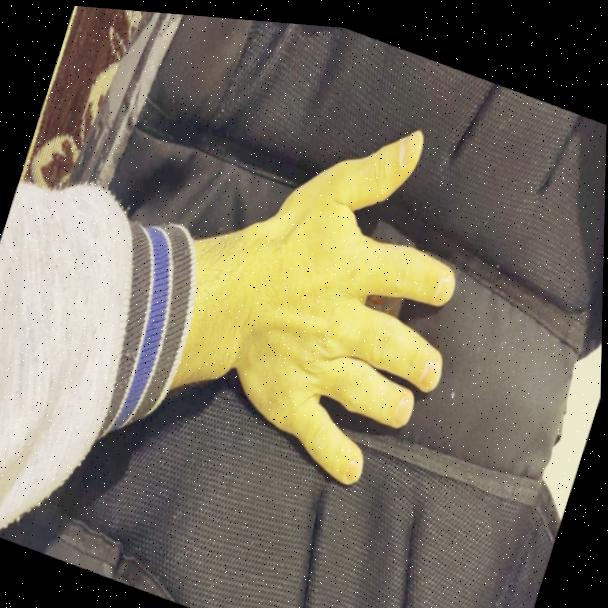five: (202, 84, 512, 516)
